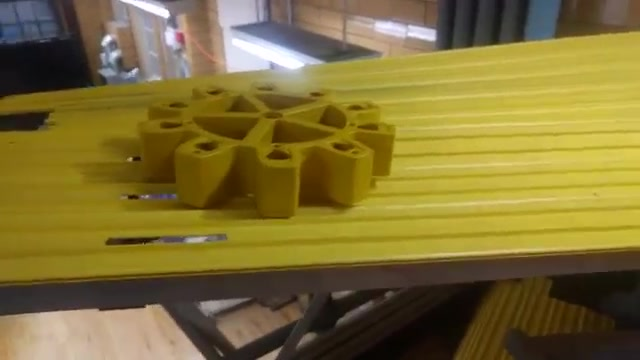gear: (138, 82, 405, 219)
